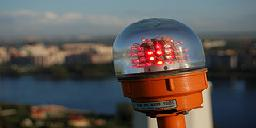LED: (128, 35, 193, 69)
